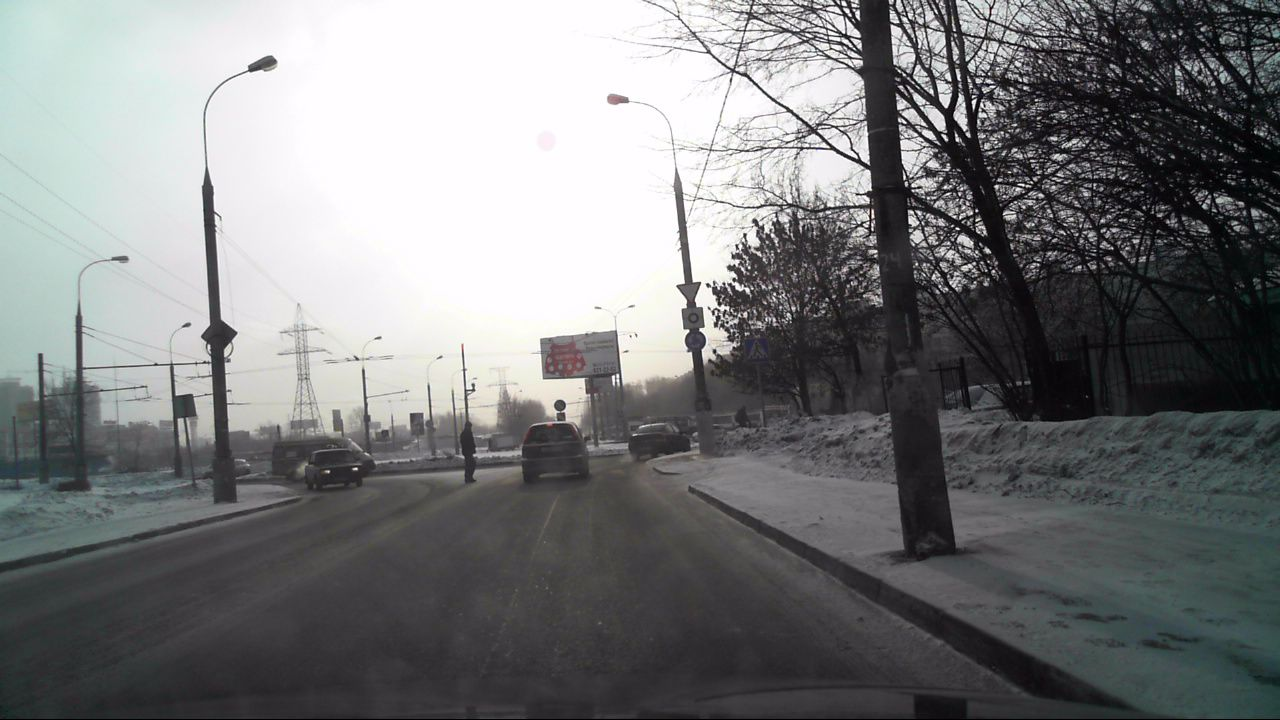Round-About: (684, 331, 706, 351)
